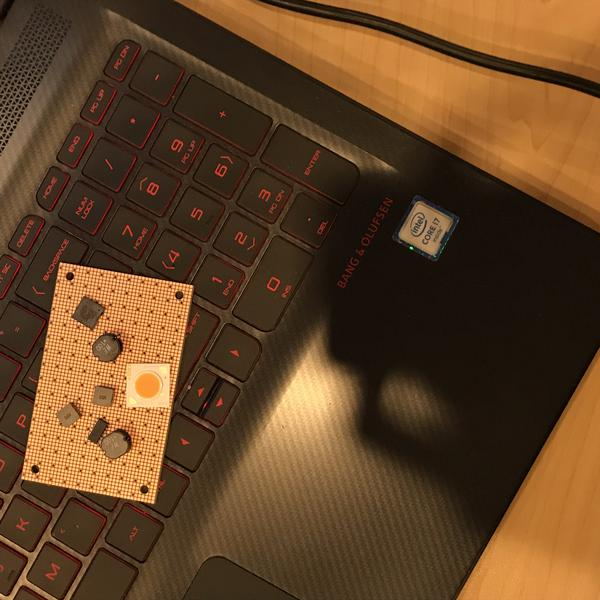board: (19, 259, 196, 507)
